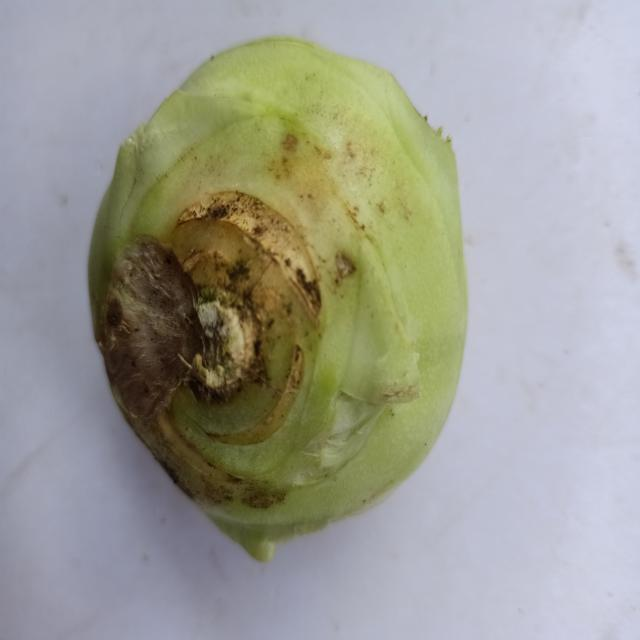Turnip: (64, 20, 490, 584)
